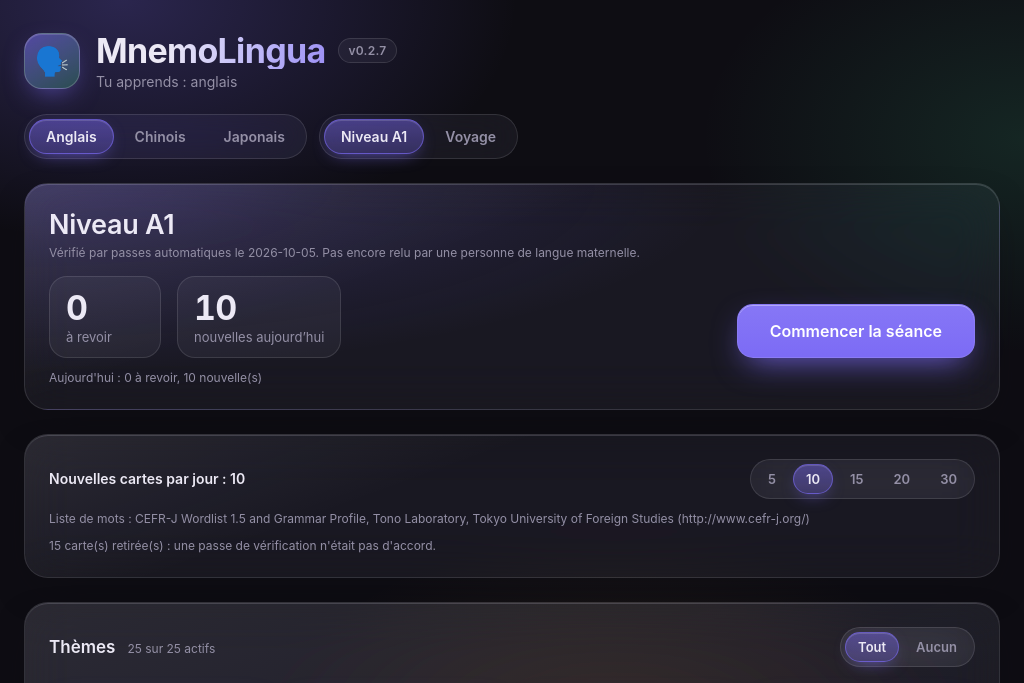
Scenario: the way into Chinese (doc 138 §16) › one press downloads the HSK list, then the strokes of every character of its words
Click the button "Chinois".
click(160, 137)  # box [118,119,203,154]
(page scrolled)
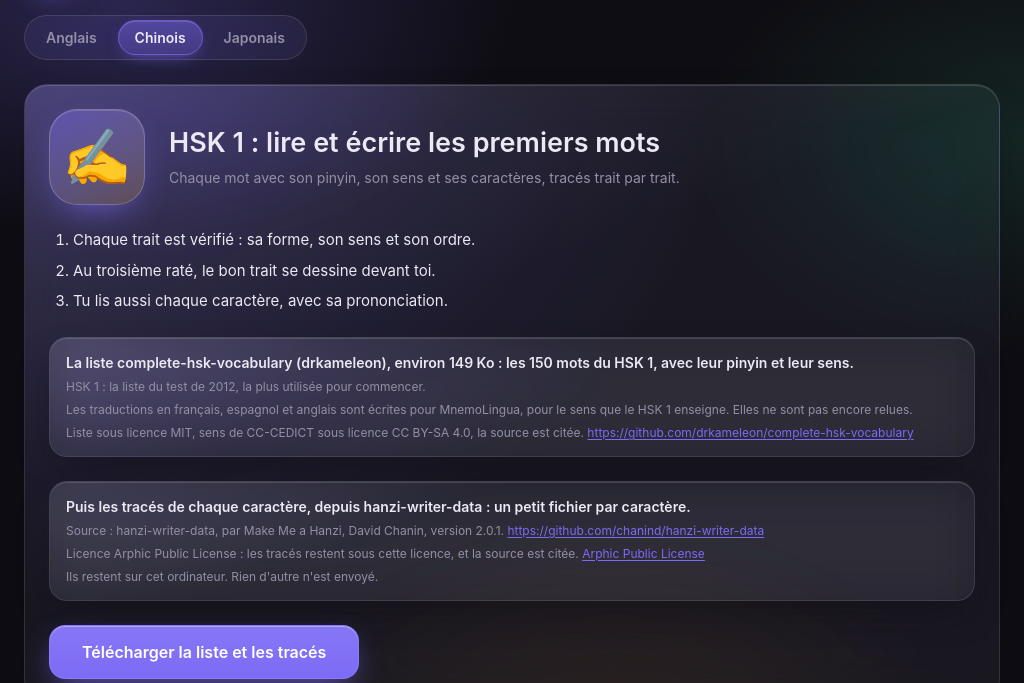
Now the text "écrites pour MnemoLingua" is shown, box [66,402,913,417]
Click the button "Télécharger la liste et les tracés".
click(204, 652)  # box [49,625,359,679]
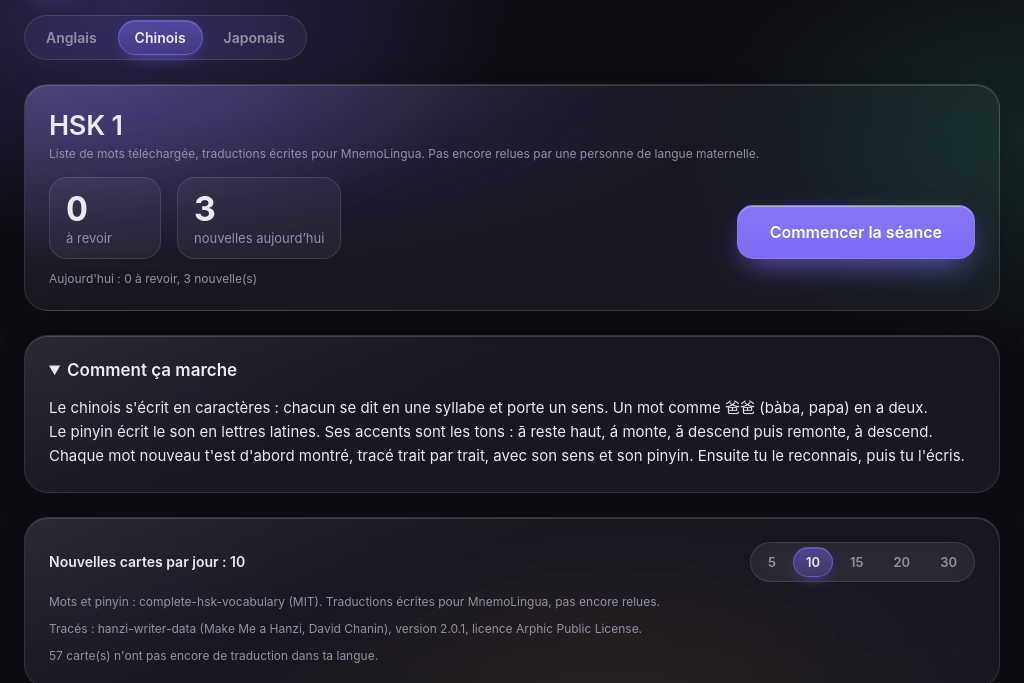
Now the text "Aujourd'hui : 0 à revoir, 3 nouvelle(s)" is shown, box [49,271,257,286]
